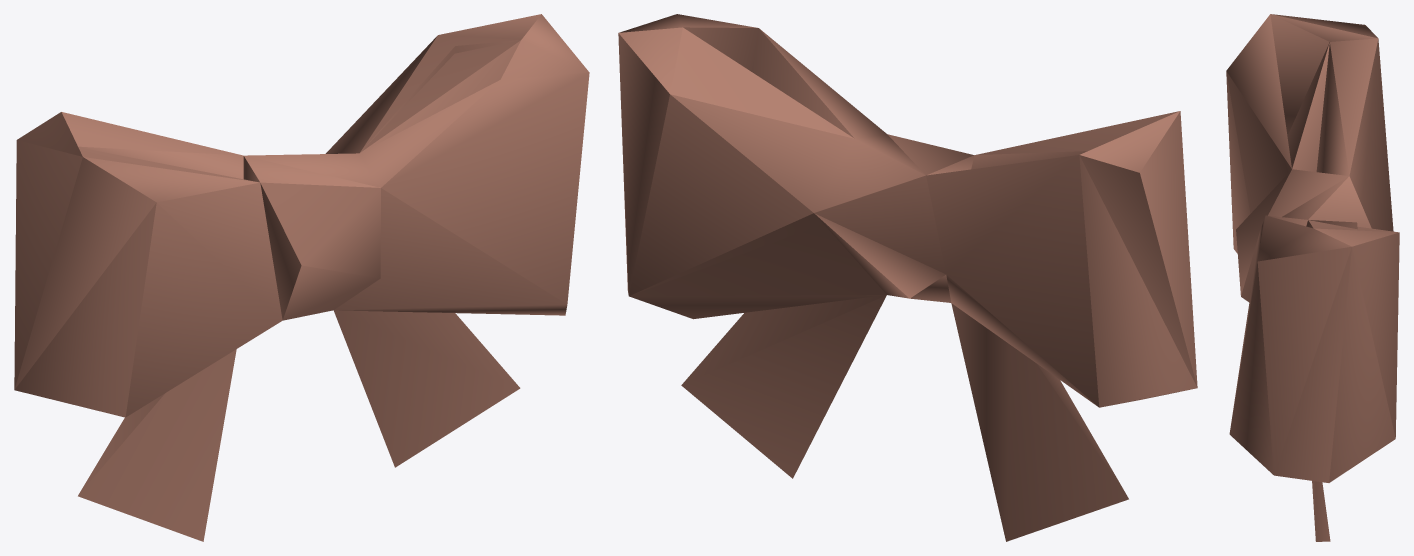
Rendered from bow_01.low.glb.
3 views of the same model, side by side, from view 1: azimuth 30°, elevation 25°; view 2: azimuth 150°, elevation 25°; view 3: azimuth 270°, elevation 25° (orthographic). The views are drawn at different scales.
Size of the model in its own units: 1.63 by 1.24 by 0.4963.
